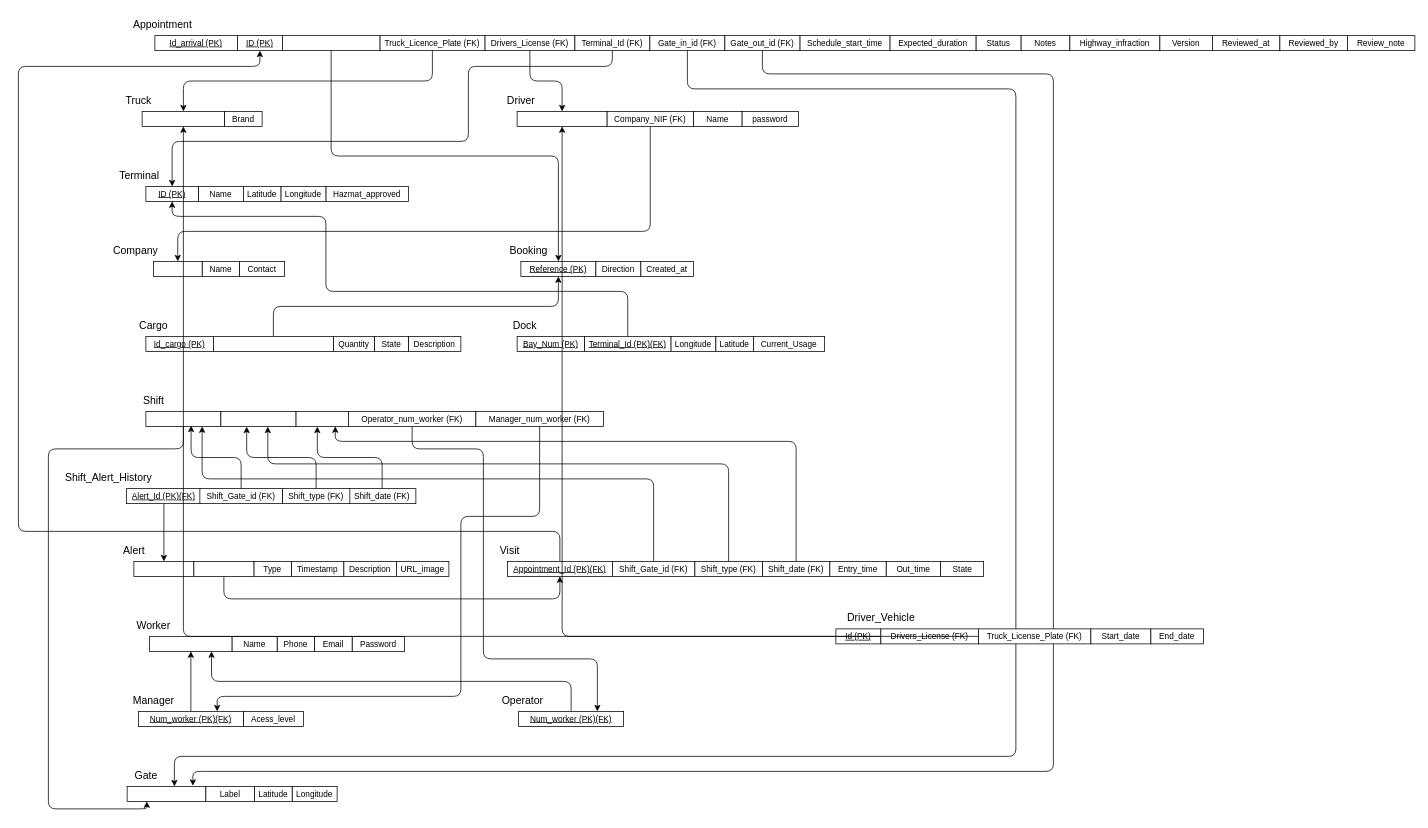
Image size: 1428x828. Some labels were removed from this diagram. Each missing label, with the centre of its shape:
"Booking_reference (FK)" belongs at [331,43].
"Booking_reference (PK)(FK)" belongs at [273,343].
"Date (PK)" belongs at [321,418].
"Drivers_license (PK)" belongs at [561,118].
"Gate_ID (PK)(FK)" belongs at [183,418].
"Id_alert (PK)" belongs at [163,568].
"Id_Gate (PK)" belongs at [166,793].
"License_Plate (PK)" belongs at [183,118].
"NIF (FK)" belongs at [177,268].
"Num_worker (PK)" belongs at [190,643].
"Shift_type (PK)" belongs at [258,418].
"Visit_Id (FK)" belongs at [223,568].
